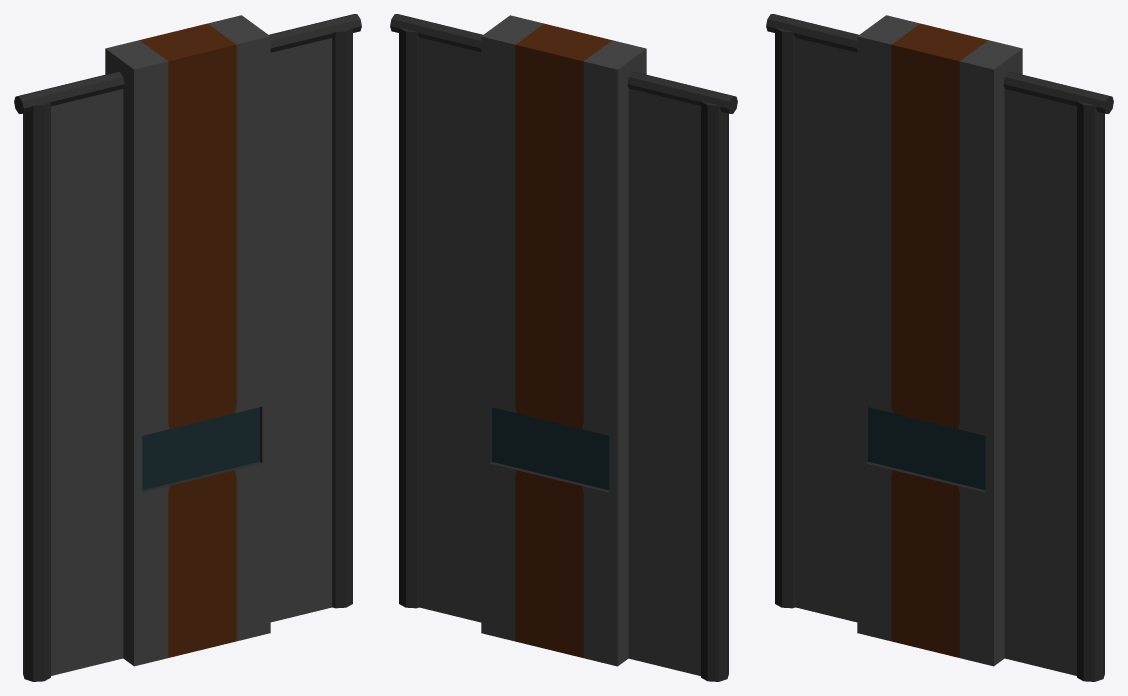
File: Door_Cylinder_002.obj
3 views of the same model, side by side, from view 1: azimuth 30°, elevation 25°; view 2: azimuth 150°, elevation 25°; view 3: azimuth 330°, elevation 25° (orthographic).
Parts seen in each view (by area): view 1: Door_Cylinder.002; view 2: Door_Cylinder.002; view 3: Door_Cylinder.002.
Part boxes in pixels (x1,y1,x2,y2): Door_Cylinder.002: (14,14,361,681); Door_Cylinder.002: (390,14,737,681); Door_Cylinder.002: (766,14,1113,681).
Size of the model in its own units: 0.6896 by 1.16 by 0.1021.
